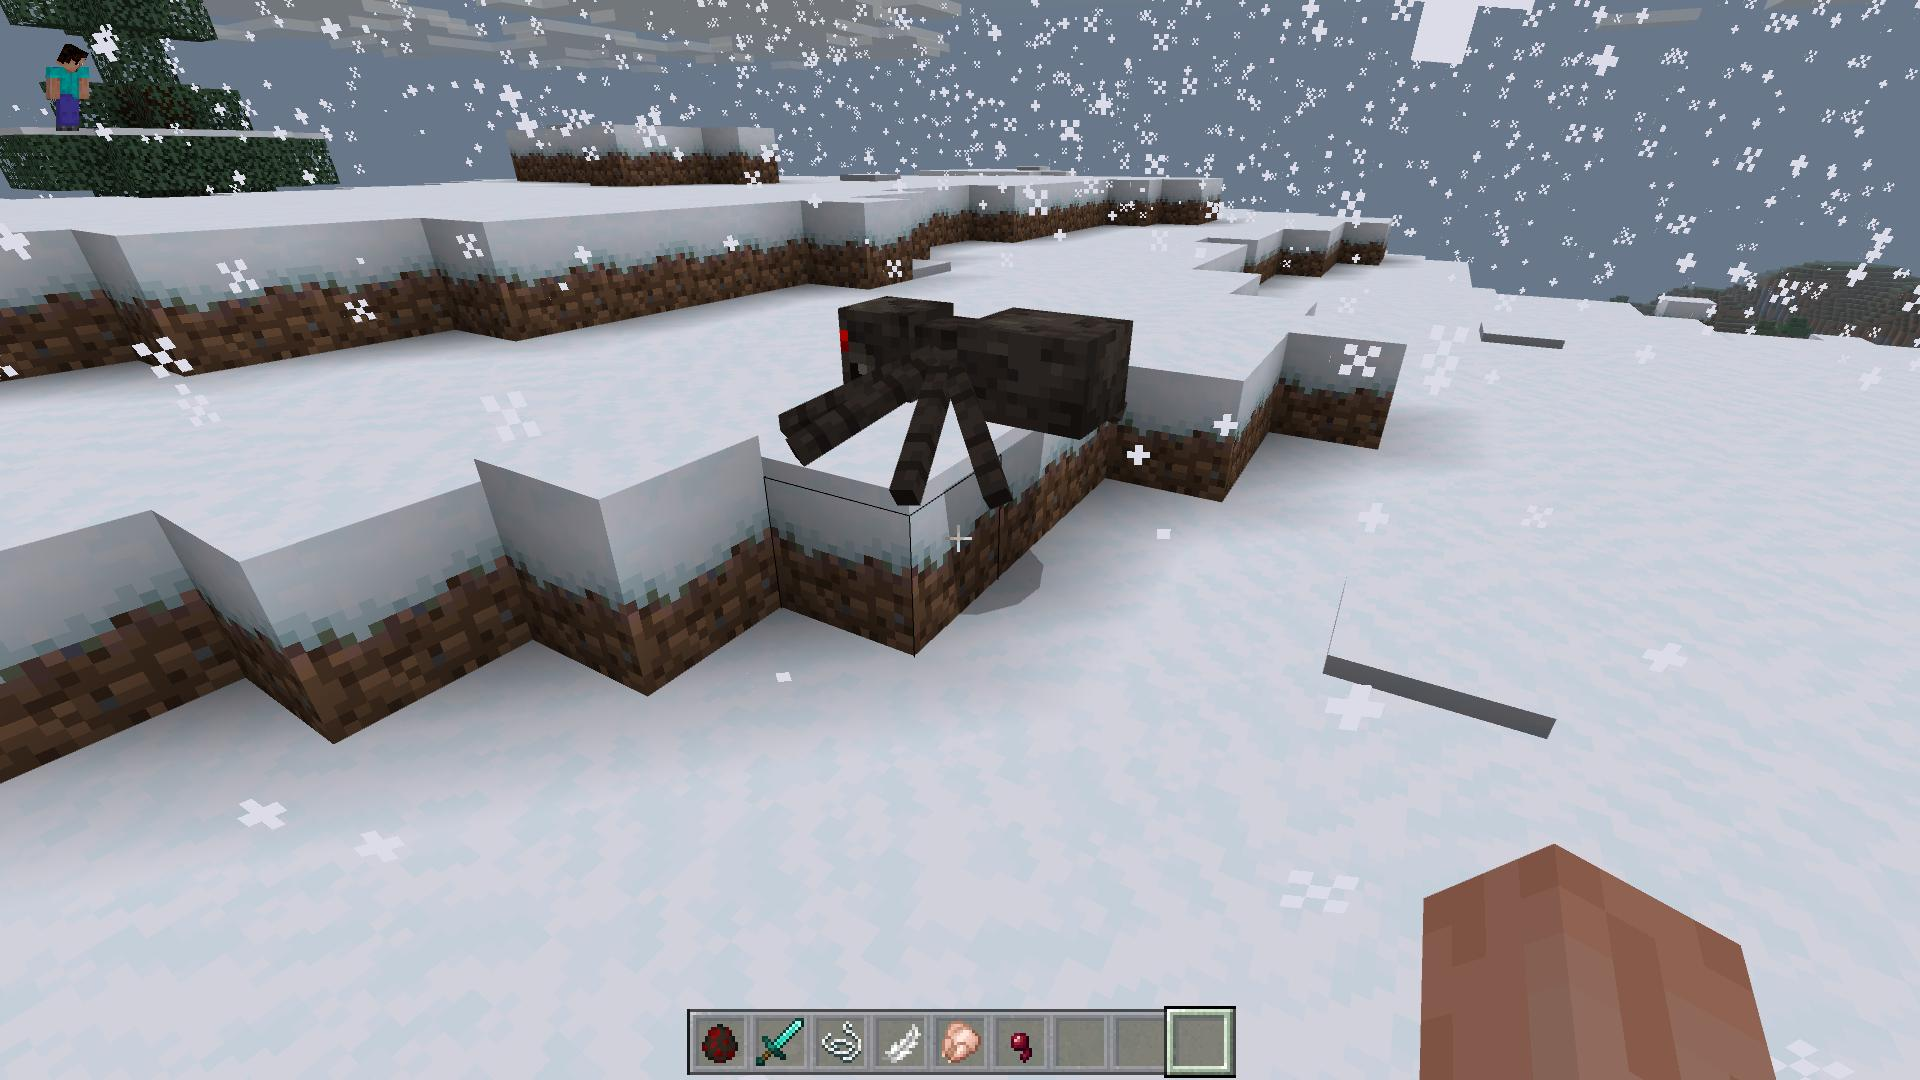spider: (778, 287, 1138, 516)
